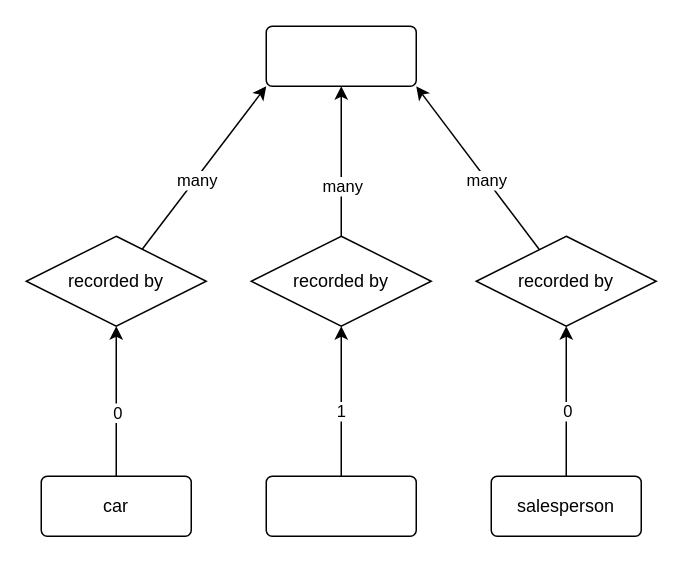
Some shapes in this 683 by 563 pixel diagram are drawn without their labels. Here are the shapes that lost their labels. From the top down, the centre of each, then its label:
At point 340,55: "order".
At point 340,505: "customer".
